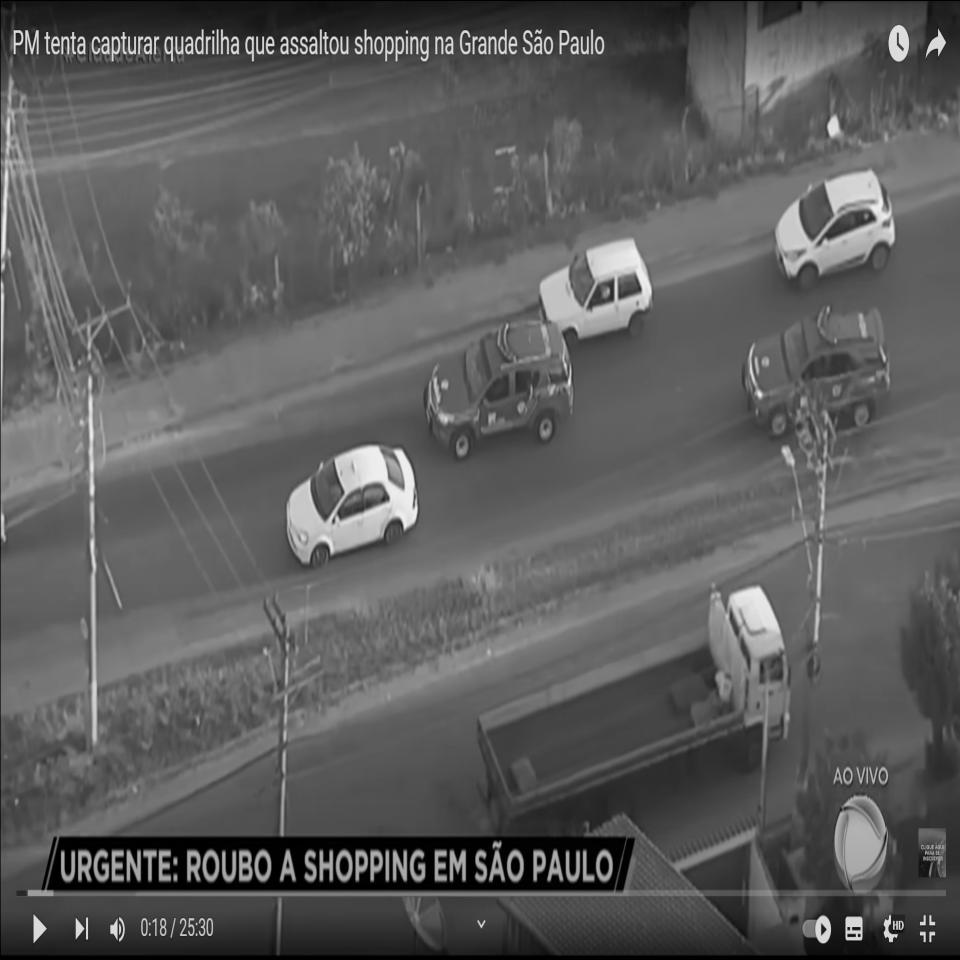viatura: (423, 314, 576, 462), (740, 300, 892, 437)
